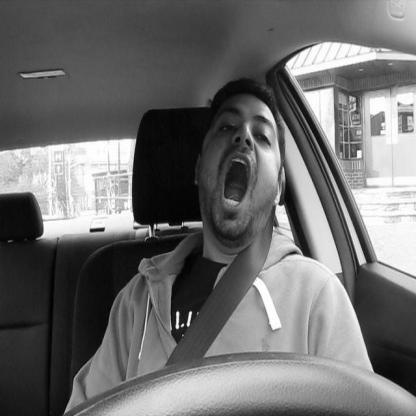seatbelt: (168, 53, 288, 365)
